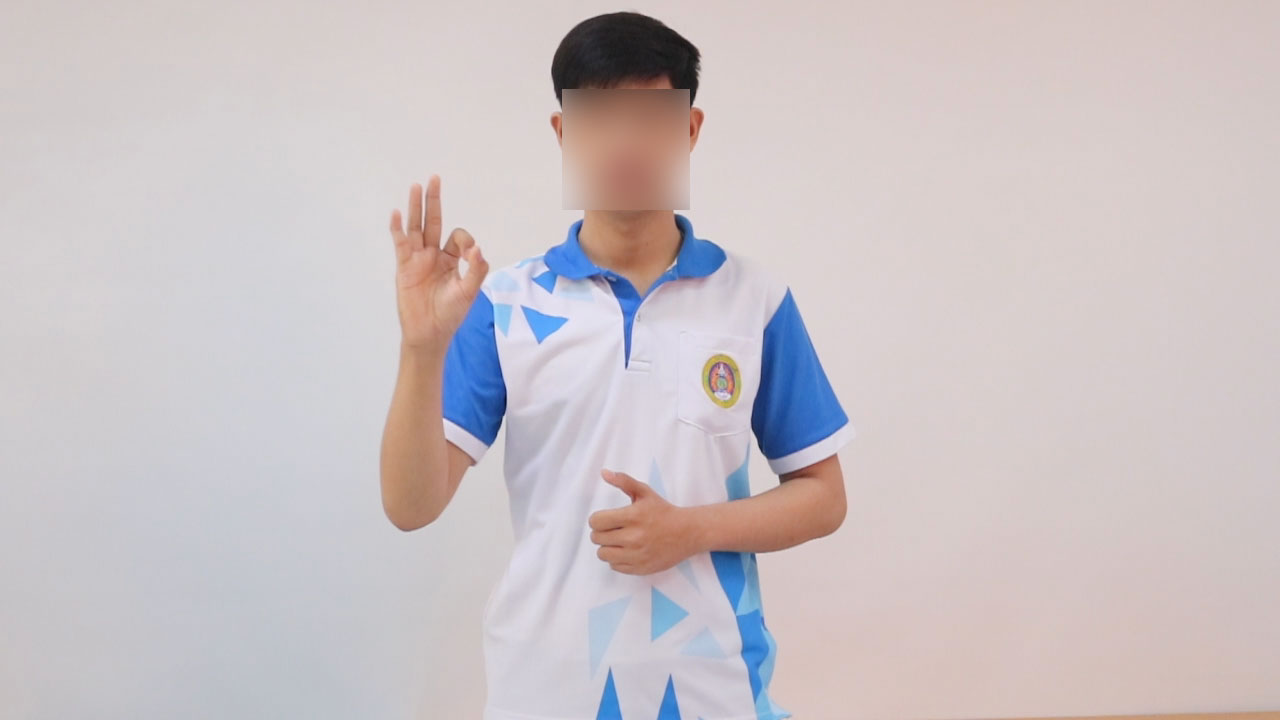for: (373, 160, 501, 368)
